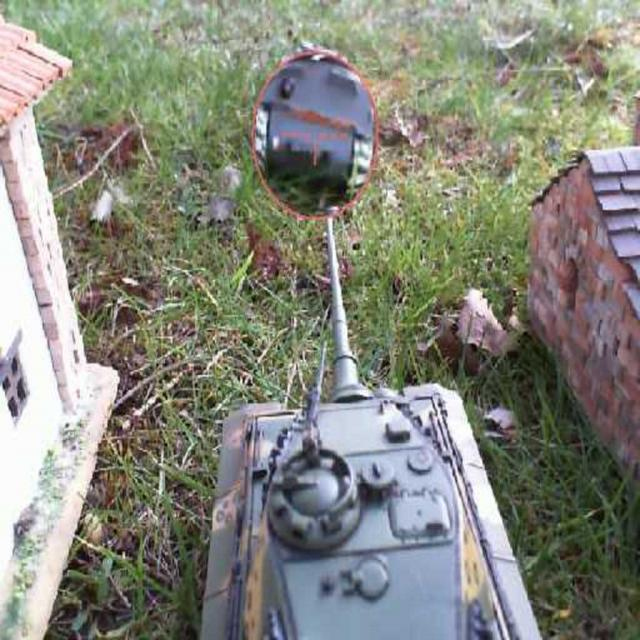tank: (197, 216, 542, 637)
